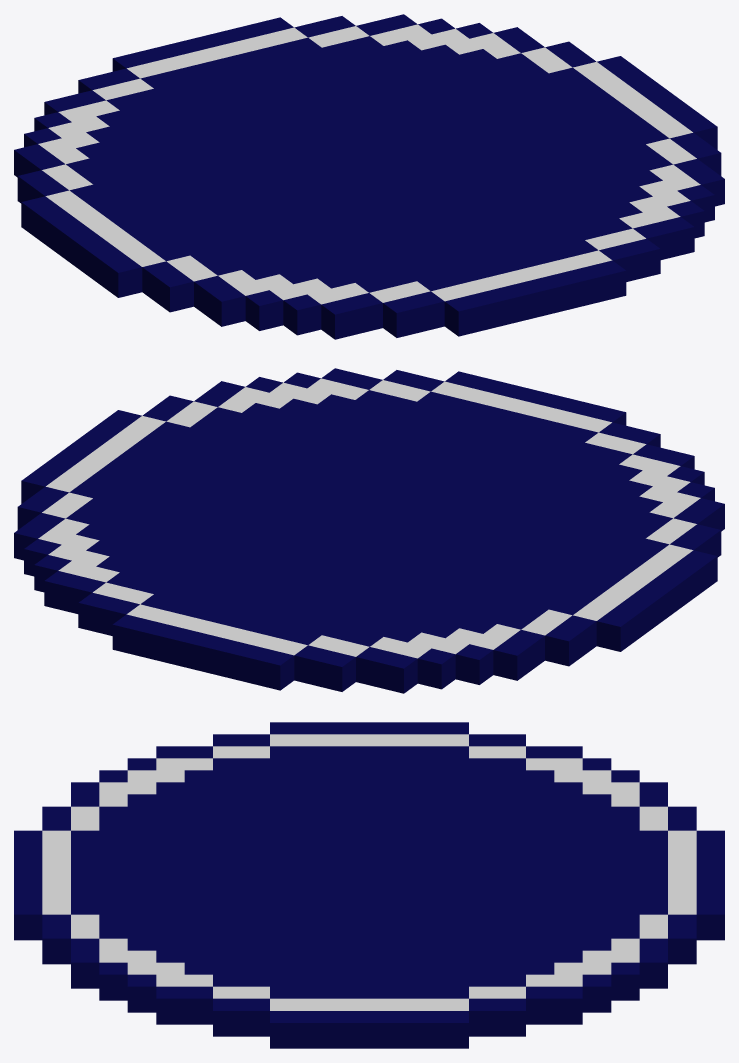
The model's file is rug blue.obj.
The picture shows the model from 3 angles, top to bottom: view 1: azimuth 30°, elevation 25°; view 2: azimuth 150°, elevation 25°; view 3: azimuth 270°, elevation 25°; orthographic projection. The views are drawn at different scales.
Parts seen in each view (by area): view 1: rug blue; view 2: rug blue; view 3: rug blue.
Boxes of the visible parts, x1=… form: rug blue: x1=14, y1=14, x2=724, y2=339; rug blue: x1=14, y1=368, x2=724, y2=693; rug blue: x1=14, y1=722, x2=724, y2=1048.
Size of the model in its own units: 25 by 1 by 25.
